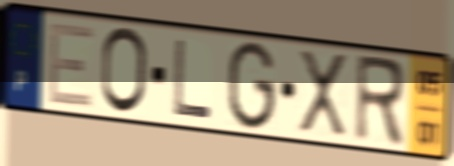E: (45, 20, 97, 112)
G: (225, 38, 280, 134)
L: (172, 36, 215, 122)
O: (98, 24, 150, 118)
R: (351, 52, 407, 151)
X: (296, 47, 349, 140)
